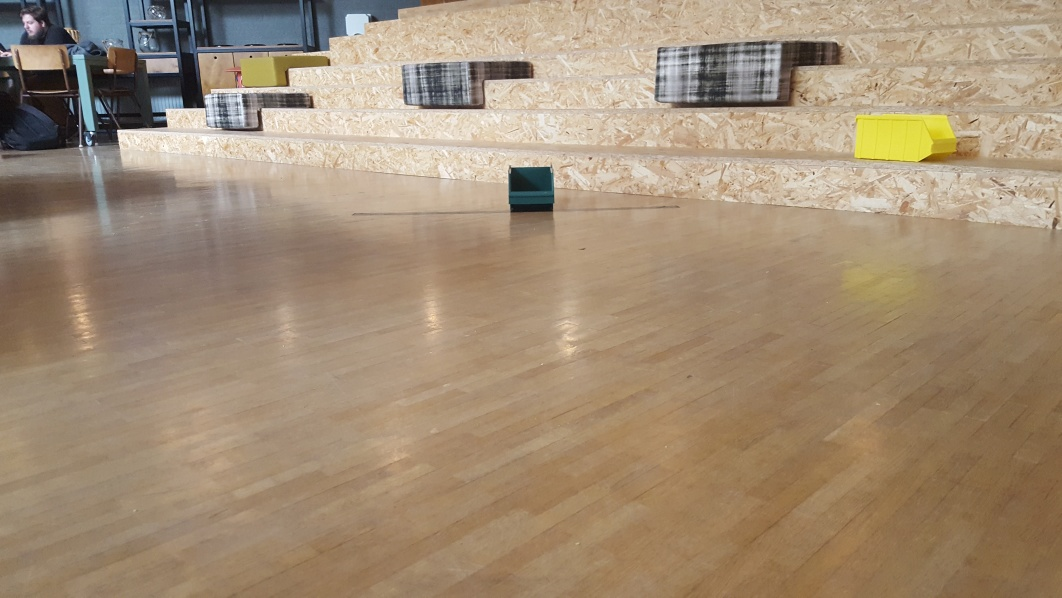tray: (850, 113, 956, 162), (504, 164, 557, 211)
